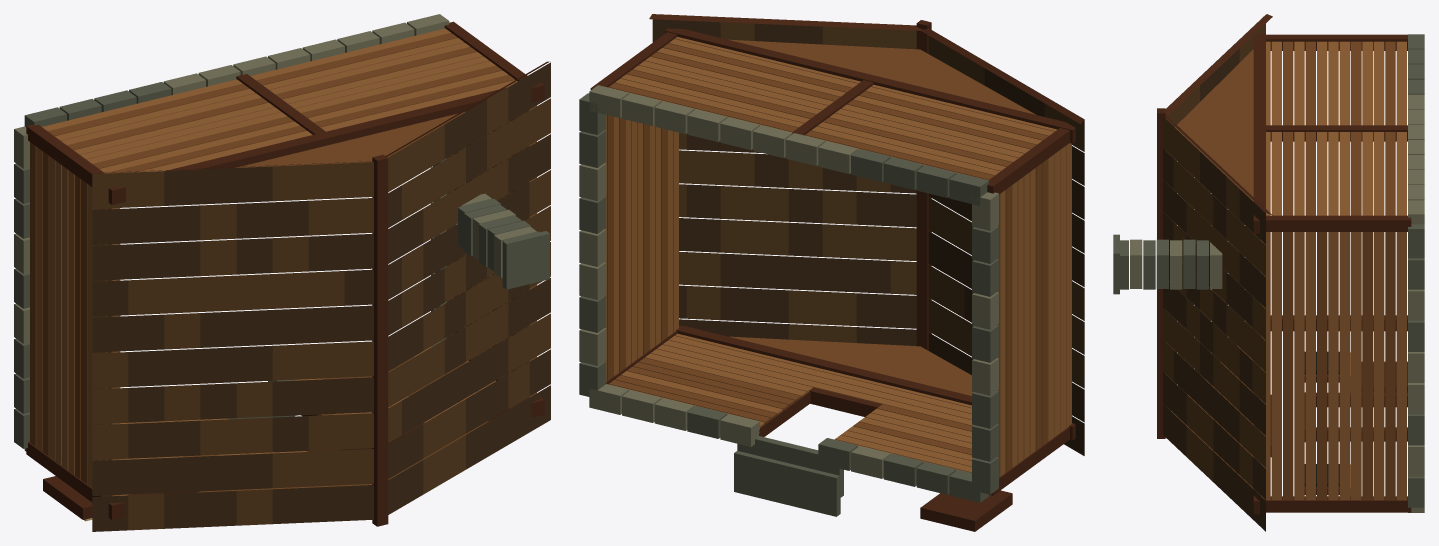
Rendered from SM_RuralGuildHall.obj.
The picture shows the model from 3 angles, left to right: view 1: azimuth 30°, elevation 25°; view 2: azimuth 150°, elevation 25°; view 3: azimuth 270°, elevation 25°; orthographic projection. The views are drawn at different scales.
Parts seen in each view (by area): view 1: SM_RuralGuildHall; view 2: SM_RuralGuildHall; view 3: SM_RuralGuildHall.
Boxes of the visible parts, <box> form: SM_RuralGuildHall: <box>14,14,550,531</box>; SM_RuralGuildHall: <box>579,14,1084,531</box>; SM_RuralGuildHall: <box>1113,14,1424,531</box>.
Size of the model in its own units: 990 by 832 by 654.
